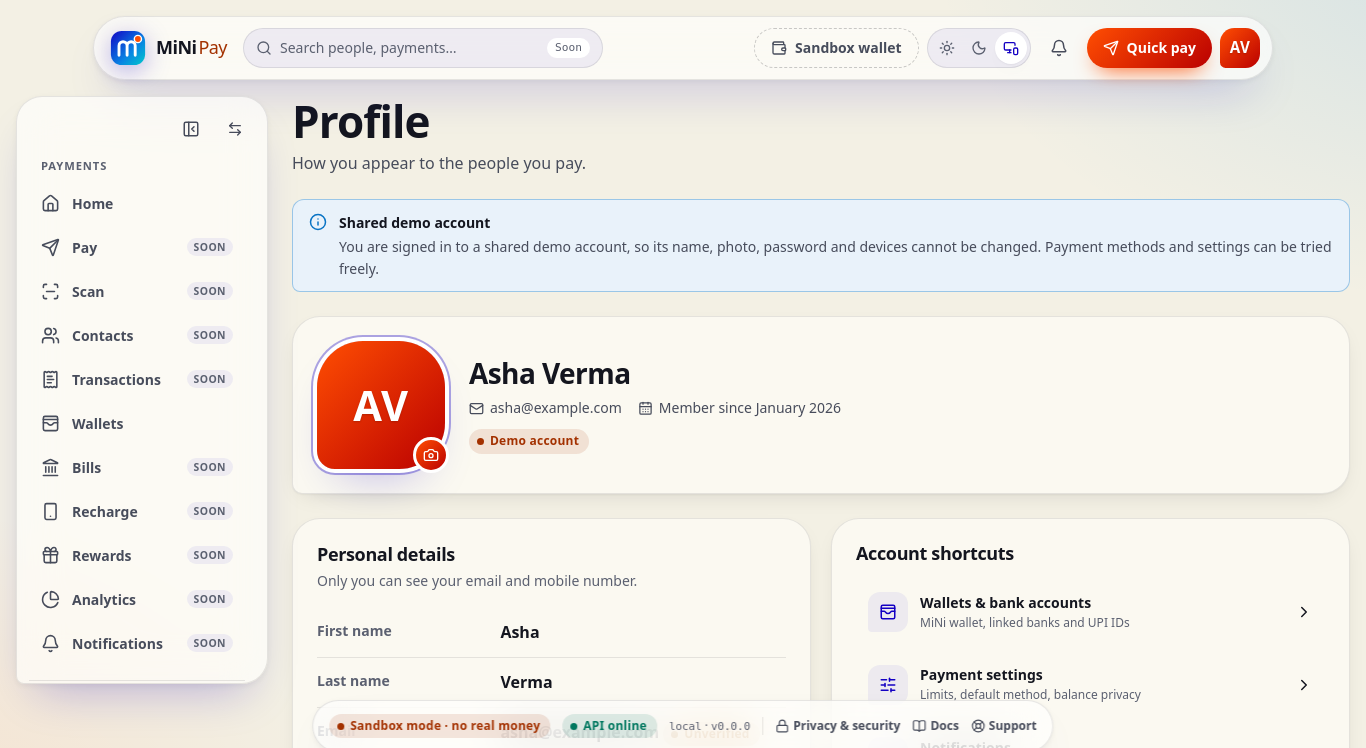
Test: demo accounts › explains the restrictions on the profile and locks editing and the photo
Expected: the text "Shared demo account" is shown, left=339, top=213, right=490, bottom=232
Click the button with aria-label "View profile photo".
click(381, 406)  # box left=317, top=342, right=445, bottom=470
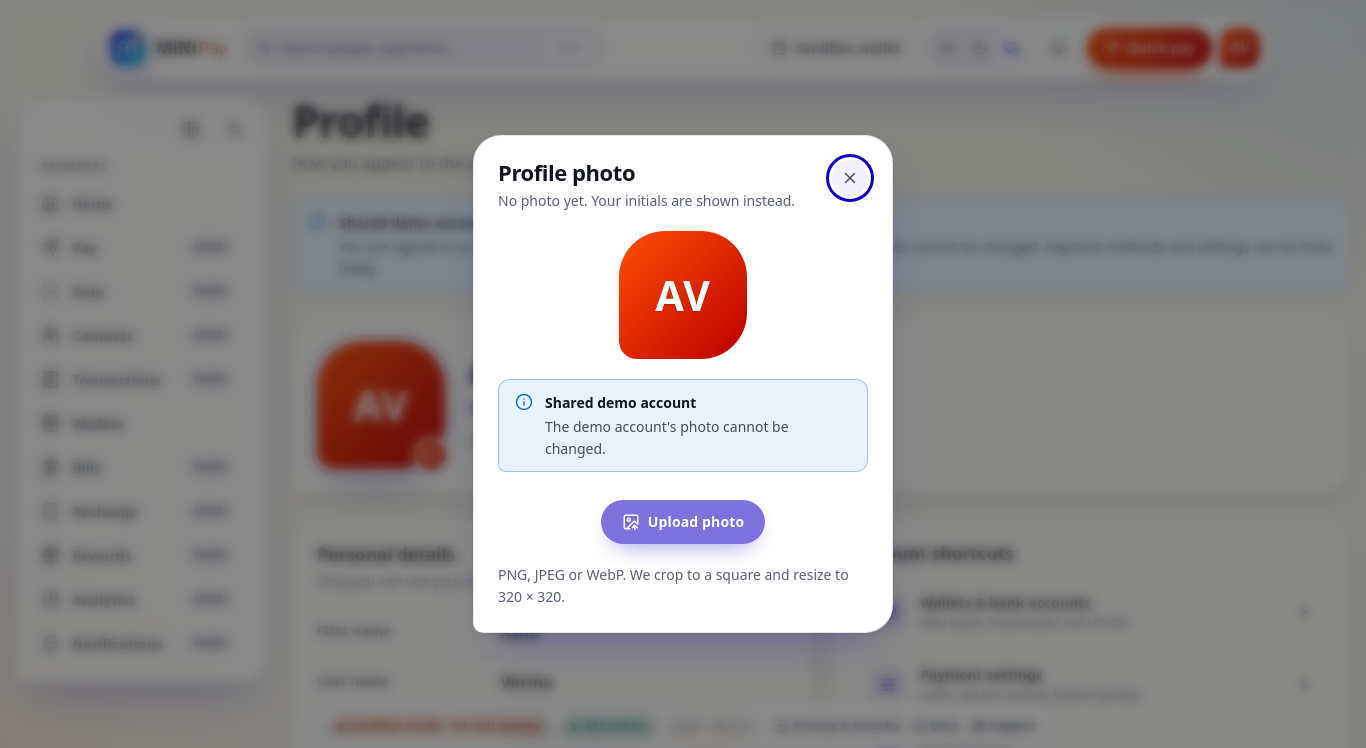
Expected: the button "Upload photo" is disabled, left=601, top=500, right=765, bottom=544
